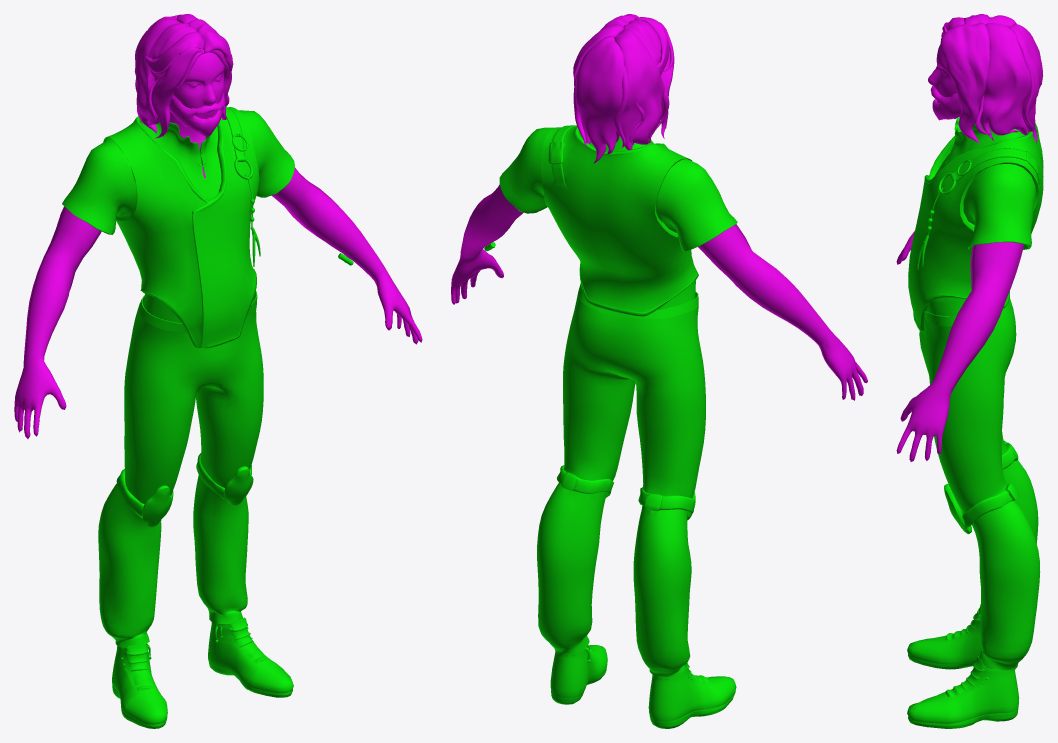
Rendered from ModeloAlhanLP.fbx.
3 renders of one model, left to right at view 1: azimuth 30°, elevation 25°; view 2: azimuth 150°, elevation 25°; view 3: azimuth 270°, elevation 25°, orthographic. The views are drawn at different scales.
Parts seen in each view (by area): view 1: Legs_low, Vest_low, Arms_low, Shirt_low, Head_low, Hair4_low, Hair6_low, Beard_low, Hair1_low, Hair5_low, Details_low, Mechones_low; view 2: Legs_low, Vest_low, Arms_low, Shirt_low, Hair4_low, Hair3_low, Mechones_low, Hair2_low; view 3: Legs_low, Vest_low, Arms_low, Shirt_low, Hair2_low, Hair1_low, Hair3_low, Head_low, Beard_low, Details_low, Mechones_low, Hair4_low.
Part boxes in pixels (left/top/right/bottom): Legs_low: left=98, top=291, right=293, bottom=728; Vest_low: left=103, top=107, right=259, bottom=348; Arms_low: left=14, top=167, right=422, bottom=438; Shirt_low: left=62, top=110, right=294, bottom=323; Head_low: left=170, top=52, right=224, bottom=177; Hair4_low: left=134, top=18, right=196, bottom=133; Hair6_low: left=151, top=47, right=203, bottom=138; Beard_low: left=169, top=91, right=224, bottom=136; Hair1_low: left=188, top=19, right=233, bottom=119; Hair5_low: left=145, top=31, right=203, bottom=84; Details_low: left=197, top=133, right=353, bottom=266; Mechones_low: left=135, top=46, right=229, bottom=123; Legs_low: left=537, top=283, right=736, bottom=728; Vest_low: left=541, top=125, right=698, bottom=316; Arms_low: left=451, top=184, right=867, bottom=400; Shirt_low: left=499, top=127, right=737, bottom=309; Hair4_low: left=614, top=20, right=664, bottom=150; Hair3_low: left=575, top=36, right=624, bottom=163; Mechones_low: left=573, top=36, right=673, bottom=148; Hair2_low: left=573, top=25, right=623, bottom=143; Legs_low: left=907, top=298, right=1040, bottom=728; Vest_low: left=908, top=123, right=1043, bottom=331; Arms_low: left=896, top=231, right=1024, bottom=461; Shirt_low: left=927, top=117, right=1035, bottom=316; Hair2_low: left=978, top=23, right=1031, bottom=141; Hair1_low: left=940, top=23, right=990, bottom=143; Hair3_low: left=1008, top=23, right=1043, bottom=143; Head_low: left=928, top=44, right=957, bottom=102; Beard_low: left=930, top=86, right=961, bottom=120; Details_low: left=917, top=142, right=972, bottom=269; Mechones_low: left=941, top=31, right=1037, bottom=134; Hair4_low: left=964, top=14, right=1016, bottom=26.
Bounding box in the file's own units: 5.57 × 9.03 × 1.79.
